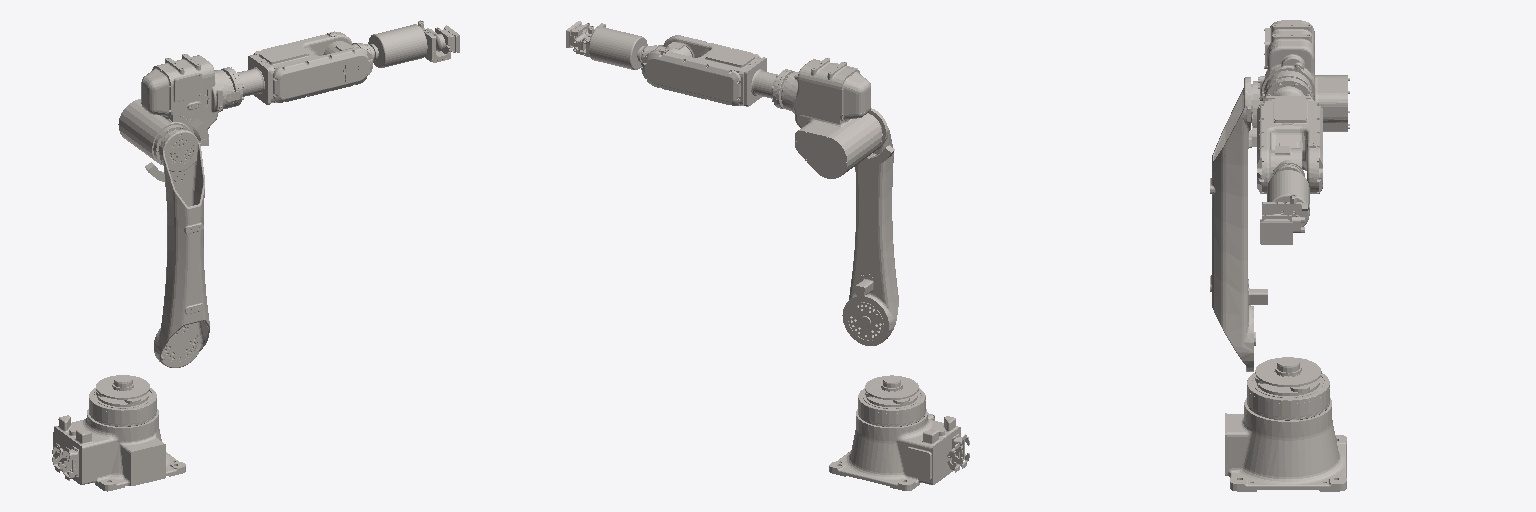
URDF robot description (arm_er20):
<?xml version="1.0" encoding="utf-8"?>
<!-- This URDF was automatically created by SolidWorks to URDF Exporter! Originally created by [author] ([email redacted])
     Commit Version: 1.6.0-1-g15f4949  Build Version: 1.6.7594.29634
     For more information, please see http://wiki.ros.org/sw_urdf_exporter -->
<robot
  name="arm_er20">


<link
  name="base_link">
  <inertial>
    <origin
      xyz="-0.0302612969487737 -0.00663622750696875 0.124915826224046"
      rpy="0 0 0" />
    <mass
      value="1.79565795070153" />
    <inertia
      ixx="2.30280938882756"
      ixy="0.0457283849312281"
      ixz="-0.145338953775191"
      iyy="2.8568060989837"
      iyz="-0.0489893271766652"
      izz="2.72280165799631" />
  </inertial>
  <visual>
    <origin
      xyz="0 0 0"
      rpy="0 0 0" />
    <geometry>
      <mesh
        filename="package://ros_robotics/meshes/base_link.STL" />
    </geometry>
    <material
      name="">
      <color
        rgba="0.776470588235294 0.756862745098039 0.737254901960784 1" />
    </material>
  </visual>
  <collision>
    <origin
      xyz="0 0 0"
      rpy="0 0 0" />
    <geometry>
      <mesh
        filename="package://ros_robotics/meshes/base_link.STL" />
    </geometry>
  </collision>
</link>
<link
  name="link1">
  <inertial>
    <origin
      xyz="0.25021 -0.0030578 0.33052"
      rpy="0 0 0" />
    <mass
      value="4.3259" />
    <inertia
      ixx="168.82"
      ixy="-0.76966"
      ixz="-67.307"
      iyy="215.97"
      iyz="-2.6536"
      izz="52.394" />
  </inertial>
  <visual>
    <origin
      xyz="0 0 0"
      rpy="0 0 0" />
    <geometry>
      <mesh
        filename="package://ros_robotics/meshes/link1.STL" />
    </geometry>
    <material
      name="">
      <color
        rgba="0.77647 0.75686 0.73725 1" />
    </material>
  </visual>
  <collision>
    <origin
      xyz="0 0 0"
      rpy="0 0 0" />
    <geometry>
      <mesh
        filename="package://ros_robotics/meshes/link1.STL" />
    </geometry>
  </collision>
</link>
<joint
  name="joint1"
  type="revolute">
  <origin
    xyz="0 0 0.504"
    rpy="0 0 0" />
  <parent
    link="base_link" />
  <child
    link="link1" />
  <axis
    xyz="0 0 1" />
  <limit
    lower="-3.0543"
    upper="3.0543"
    effort="100"
    velocity="1.0" />
</joint>
<link
  name="link2">
  <inertial>
    <origin
      xyz="-0.00220907712746699 0.343783982565897 0.145957398167686"
      rpy="0 0 0" />
    <mass
      value="0.26180455529822" />
    <inertia
      ixx="1.99212829898751"
      ixy="0.020570366878983"
      ixz="-0.00311673238710565"
      iyy="0.109744152968481"
      iyz="-0.0179647056253779"
      izz="2.01337906790691" />
  </inertial>
  <visual>
    <origin
      xyz="0 0 0"
      rpy="0 0 0" />
    <geometry>
      <mesh
        filename="package://ros_robotics/meshes/link2.STL" />
    </geometry>
    <material
      name="">
      <color
        rgba="0.776470588235294 0.756862745098039 0.737254901960784 1" />
    </material>
  </visual>
  <collision>
    <origin
      xyz="0 0 0"
      rpy="0 0 0" />
    <geometry>
      <mesh
        filename="package://ros_robotics/meshes/link2.STL" />
    </geometry>
  </collision>
</link>
<joint
  name="joint2"
  type="revolute">
  <origin
    xyz="0.17 0 0"
    rpy="1.5708 0 0" />
  <parent
    link="link1" />
  <child
    link="link2" />
  <axis
    xyz="0 0 1" />
  <limit
    lower="-2.4784"
    upper="1.117"
    effort="100"
    velocity="1.0" />
</joint>
<link
  name="link3">
  <inertial>
    <origin
      xyz="0.0860569384804188 -0.0612610228973326 -0.0254423869799934"
      rpy="0 0 0" />
    <mass
      value="1.23631500981805" />
    <inertia
      ixx="1.37244330282467"
      ixy="0.365266960962856"
      ixz="-0.178679210867722"
      iyy="1.65774268390455"
      iyz="0.0954544824878742"
      izz="1.93409051920313" />
  </inertial>
  <visual>
    <origin
      xyz="0 0 0"
      rpy="0 0 0" />
    <geometry>
      <mesh
        filename="package://ros_robotics/meshes/link3.STL" />
    </geometry>
    <material
      name="">
      <color
        rgba="0.776470588235294 0.756862745098039 0.737254901960784 1" />
    </material>
  </visual>
  <collision>
    <origin
      xyz="0 0 0"
      rpy="0 0 0" />
    <geometry>
      <mesh
        filename="package://ros_robotics/meshes/link3.STL" />
    </geometry>
  </collision>
</link>
<joint
  name="joint3"
  type="revolute">
  <origin
    xyz="0 0.78 0"
    rpy="0 0 1.5707963267949" />
  <parent
    link="link2" />
  <child
    link="link3" />
  <axis
    xyz="0 0 1" />
  <limit
    lower="-1.2741"
    upper="2.8798"
    effort="100"
    velocity="1.0" />
</joint>
<link
  name="link4">
  <inertial>
    <origin
      xyz="5.30059937586813E-06 -0.00511013215511404 0.548934546427386"
      rpy="0 0 0" />
    <mass
      value="0.842237130732626" />
    <inertia
      ixx="1.8466304879122"
      ixy="0.0001580915177901"
      ixz="-0.000209150308670826"
      iyy="1.69813091647929"
      iyz="0.025687666161557"
      izz="0.419860663939516" />
  </inertial>
  <visual>
    <origin
      xyz="0 0 0"
      rpy="0 0 0" />
    <geometry>
      <mesh
        filename="package://ros_robotics/meshes/link4.STL" />
    </geometry>
    <material
      name="">
      <color
        rgba="0.776470588235294 0.756862745098039 0.737254901960784 1" />
    </material>
  </visual>
  <collision>
    <origin
      xyz="0 0 0"
      rpy="0 0 0" />
    <geometry>
      <mesh
        filename="package://ros_robotics/meshes/link4.STL" />
    </geometry>
  </collision>
</link>
<joint
  name="joint4"
  type="revolute">
  <origin
    xyz="0.14 0 0"
    rpy="1.5708 0 0" />
  <parent
    link="link3" />
  <child
    link="link4" />
  <axis
    xyz="0 0 1" />
  <limit
    lower="-3.1067"
    upper="3.1067"
    effort="100.0"
    velocity="1.0" />
</joint>
<link
  name="link5">
  <inertial>
    <origin
      xyz="0.016893 6.75E-05 -0.0064606"
      rpy="0 0 0" />
    <mass
      value="0.10128" />
    <inertia
      ixx="0.014938"
      ixy="1.1554E-05"
      ixz="-0.0011054"
      iyy="0.023886"
      iyz="2.0841E-05"
      izz="0.025234" />
  </inertial>
  <visual>
    <origin
      xyz="0 0 0"
      rpy="0 0 0" />
    <geometry>
      <mesh
        filename="package://ros_robotics/meshes/link5.STL" />
    </geometry>
    <material
      name="">
      <color
        rgba="0.77647 0.75686 0.73725 1" />
    </material>
  </visual>
  <collision>
    <origin
      xyz="0 0 0"
      rpy="0 0 0" />
    <geometry>
      <mesh
        filename="package://ros_robotics/meshes/link5.STL" />
    </geometry>
  </collision>
</link>
<joint
  name="joint5"
  type="revolute">
  <origin
    xyz="0 0 0.76"
    rpy="1.5708 -1.5708 0" />
  <parent
    link="link4" />
  <child
    link="link5" />
  <axis
    xyz="0 0 1" />
  <limit
    lower="-2.3038"
    upper="2.3038"
    effort="100"
    velocity="1.0" />
</joint>
<link
  name="link6">
  <inertial>
    <origin
      xyz="0.0022374 -0.005503 -0.19096"
      rpy="0 0 0" />
    <mass
      value="0.008" />
    <inertia
      ixx="0.077968"
      ixy="0.00055404"
      ixz="-0.0025417"
      iyy="0.076515"
      iyz="0.0066605"
      izz="0.017396" />
  </inertial>
  <visual>
    <origin
      xyz="0 0 0"
      rpy="0 0 0" />
    <geometry>
      <mesh
        filename="package://ros_robotics/meshes/link6.STL" />
    </geometry>
    <material
      name="">
      <color
        rgba="0.77647 0.75686 0.73725 1" />
    </material>
  </visual>
  <collision>
    <origin
      xyz="0 0 0"
      rpy="0 0 0" />
    <geometry>
      <mesh
        filename="package://ros_robotics/meshes/link6.STL" />
    </geometry>
  </collision>
</link>
<joint
  name="joint6"
  type="revolute">
  <origin
    xyz="0.451 0 0"
    rpy="1.5708 0 1.5708" />
  <parent
    link="link5" />
  <child
    link="link6" />
  <axis
    xyz="0 0 1" />
  <limit
    lower="-12.566"
    upper="12.566"
    effort="100"
    velocity="1.0" />
</joint>

</robot>

--- Render facts (derived) ---
3 views of the same robot in one strip: view 1: azimuth 30°, elevation 25°; view 2: azimuth 150°, elevation 25°; view 3: azimuth 270°, elevation 25° (orthographic).
Model arm_er20 with 7 links and 6 joints (6 revolute), rooted at base_link, posed all joints at 0.
Visible links, largest first — view 1: base_link, link2, link3, link4, link6; view 2: base_link, link3, link2, link4, link6; view 3: base_link, link2, link4, link3, link6, link5.
Link boxes in pixels (x1,y1,x2,y2): base_link: (52,375,185,491); link2: (145,129,209,367); link3: (118,54,234,165); link4: (221,31,372,107); link6: (366,20,459,67); base_link: (829,375,969,490); link3: (781,58,882,178); link2: (842,108,898,345); link4: (641,35,794,108); link6: (566,21,649,69); base_link: (1225,357,1346,491); link2: (1210,77,1267,371); link4: (1257,77,1322,193); link3: (1251,20,1349,131); link6: (1260,170,1309,244); link5: (1272,146,1304,176).
Bounding box of the posed robot: 1.67 × 0.4195 × 1.57 m (x, y, z).
Meshes: 7 distinct files referenced, 6 mesh visuals loaded (6 binary STL); not drawn: 1 (reference not matched to a file when rendering).